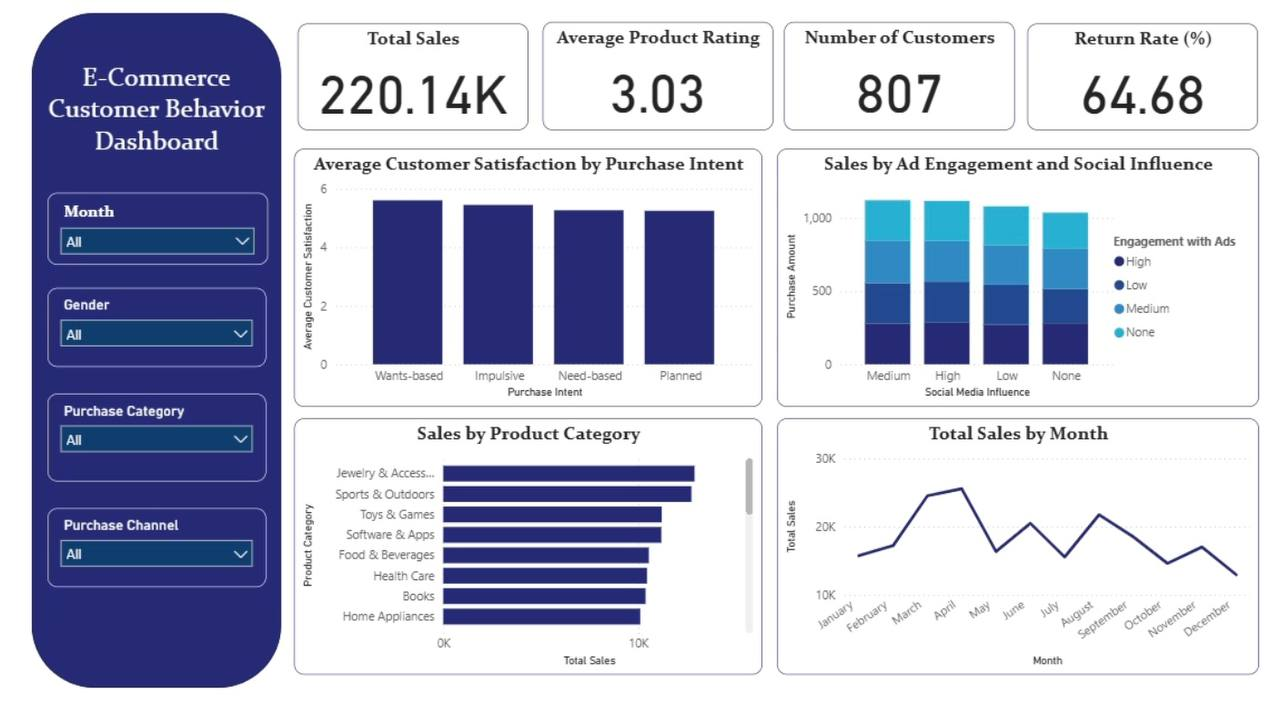

This screenshot's page, from the dashboard's own definition file:
{"tool":"powerbi","page":{"name":"Page 1","canvas":[1280,720],"ordinal":0},"visuals":[{"type":"card","title":"Total Sales","fields":{"Values":["Sum(all dataset.purchase information.Purchase_Amount)"]},"box":[291.2,10.5,233.7,108.1],"z":0},{"type":"card","title":"Number of Customers","fields":{"Values":["Count(all dataset.Customer_ID)"]},"box":[784.8,8.7,233.7,109.9],"z":1000},{"type":"lineChart","fields":{"Category":["all dataset.MonthName.Variation.Date Hierarchy.Month"],"Y":["all dataset.Total Sales"]},"box":[776.1,411.6,488.3,259.8],"z":2000},{"type":"shape","box":[20.9,0,252.9,683.6],"z":3000},{"type":"textbox","box":[31.4,43.6,231.9,116.8],"z":4000},{"type":"slicer","fields":{"Values":["all dataset.MonthName.Variation.Date Hierarchy.Month"]},"box":[36.6,181.4,223.2,73.2],"z":5000},{"type":"slicer","fields":{"Values":["all dataset.purchase information.Purchase_Category"]},"box":[38.4,385.4,221.5,88.9],"z":6000},{"type":"slicer","fields":{"Values":["all dataset.purchase information.Purchase_Channel"]},"box":[38.4,502.3,221.5,80.2],"z":7000},{"type":"card","title":"Return Rate (%)","fields":{"Values":["all dataset.Return Rate (%)"]},"box":[1030.7,10.5,233.7,108.1],"z":8000},{"type":"card","title":"Average Product Rating","fields":{"Values":["all dataset.Average Product Rating"]},"box":[538.9,8.7,233.7,109.9],"z":9000},{"type":"slicer","fields":{"Values":["all dataset.Gender"]},"box":[36.6,279,221.5,80.2],"z":10000},{"type":"clusteredBarChart","title":"Sales by Product Category","fields":{"Category":["all dataset.purchase information.Purchase_Category"],"Y":["all dataset.Total Sales"]},"box":[287.7,411.6,474.4,259.8],"z":11000},{"type":"columnChart","title":" Average Customer Satisfaction by Purchase Intent","fields":{"Category":["all dataset.Evaluation and satisfaction.Purchase_Intent"],"Y":["Avg(all dataset.Evaluation and satisfaction.Customer_Satisfaction)"]},"box":[287.7,137.8,474.4,261.6],"z":12000},{"type":"columnChart","title":"Sales by Ad Engagement and Social Influence","fields":{"Category":["all dataset.purchasing behavior.Social_Media_Influence"],"Y":["Avg(all dataset.purchase information.Purchase_Amount)"],"Series":["all dataset.purchasing behavior.Engagement_with_Ads"]},"box":[776.1,137.8,488.3,261.6],"z":13000},{"type":"actionButton","box":[90.8,603.1,117.7,32.3],"z":14000}]}

Visuals, with their boxes in screenshot pixels (x1, y1, x2, y2), scaled from the page's 1280x720 canvas onto the 1280x713 screenshot:
"Total Sales" card: locate(291, 10, 525, 117)
"Number of Customers" card: locate(785, 9, 1018, 117)
lineChart - all dataset.MonthName.Variation.Date Hierarchy.Month x all dataset.Total Sales: locate(776, 408, 1264, 665)
shape: locate(21, 0, 274, 677)
textbox: locate(31, 43, 263, 159)
slicer - all dataset.MonthName.Variation.Date Hierarchy.Month: locate(37, 180, 260, 252)
slicer - all dataset.purchase information.Purchase_Category: locate(38, 382, 260, 470)
slicer - all dataset.purchase information.Purchase_Channel: locate(38, 497, 260, 577)
"Return Rate (%)" card: locate(1031, 10, 1264, 117)
"Average Product Rating" card: locate(539, 9, 773, 117)
slicer - all dataset.Gender: locate(37, 276, 258, 356)
"Sales by Product Category" clusteredBarChart: locate(288, 408, 762, 665)
" Average Customer Satisfaction by Purchase Intent" columnChart: locate(288, 136, 762, 396)
"Sales by Ad Engagement and Social Influence" columnChart: locate(776, 136, 1264, 396)
actionButton: locate(91, 597, 208, 629)
